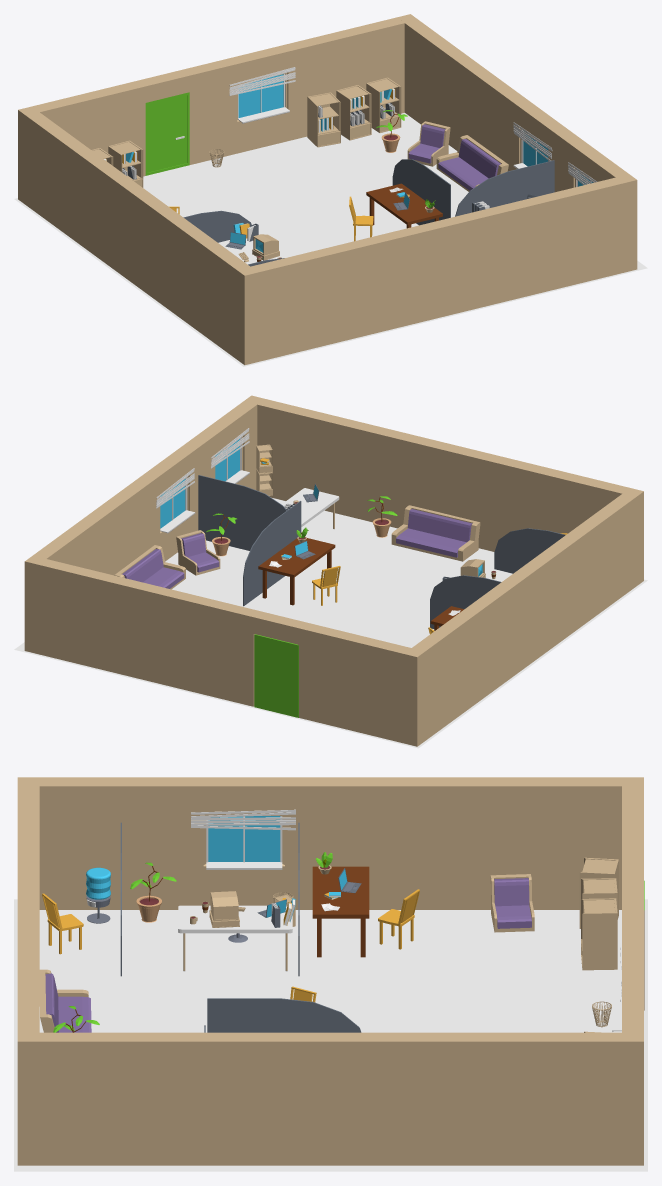
File: office_props_lowpoly.glb
3 views of the same model, one above another, from view 1: azimuth 30°, elevation 25°; view 2: azimuth 150°, elevation 25°; view 3: azimuth 270°, elevation 25° (orthographic). The views are drawn at different scales.
Visible parts, largest first — view 1: Plane, wall1__11_, wall1__10_, wall1__9_, wall1__8_, wall3__1_, wall2, wall1__7_, wall1__3_, wall1__5_, wall1__4_, wall3 (+16 smaller); view 2: Plane, wall1, wall1__3_, wall2, wall3__1_, wall1__10_, wall1__9_, wall1__11_, wall3, wall1__4_, wall1__5_, wall1__7_ (+15 smaller); view 3: Plane, wall3__2_, wall1__14_, wall3__3_, wall1__15_, wall3, wall1__5_, wall1__4_, wall1__7_, stand_wall__5_, wall1__11_, table1 (+18 smaller).
Boxes of the visible parts, <box> form: Plane: <box>14,113,647,366</box>; wall1__11_: <box>535,174,637,292</box>; wall1__10_: <box>440,197,542,315</box>; wall1__9_: <box>345,220,447,338</box>; wall1__8_: <box>251,243,352,361</box>; wall3__1_: <box>208,40,309,158</box>; wall2: <box>113,63,215,176</box>; wall1__7_: <box>190,232,258,365</box>; wall1__3_: <box>302,17,404,113</box>; wall1__5_: <box>80,152,148,284</box>; wall1__4_: <box>26,112,93,244</box>; wall3: <box>135,192,203,324</box>; Plane: <box>14,498,647,748</box>; wall1: <box>322,628,425,746</box>; wall1__3_: <box>38,559,140,677</box>; wall2: <box>228,605,329,723</box>; wall3__1_: <box>133,582,235,700</box>; wall1__10_: <box>338,418,440,528</box>; wall1__9_: <box>433,442,535,551</box>; wall1__11_: <box>244,395,345,513</box>; wall3: <box>521,528,589,660</box>; wall1__4_: <box>412,608,479,740</box>; wall1__5_: <box>467,568,534,700</box>; wall1__7_: <box>576,488,643,620</box>; Plane: <box>14,899,647,1171</box>; wall3__2_: <box>190,1032,341,1165</box>; wall1__14_: <box>341,1032,492,1165</box>; wall3__3_: <box>39,1032,190,1165</box>; wall1__15_: <box>493,1032,643,1165</box>; wall3: <box>168,777,319,909</box>; wall1__5_: <box>320,777,470,909</box>; wall1__4_: <box>471,777,621,909</box>; wall1__7_: <box>17,777,168,909</box>; stand_wall__5_: <box>207,998,361,1032</box>; wall1__11_: <box>17,978,39,1165</box>; table1: <box>312,866,369,957</box>.
Size of the model in its own units: 2911 by 619 by 2861.
Materials: 3 (2 with a texture image).
